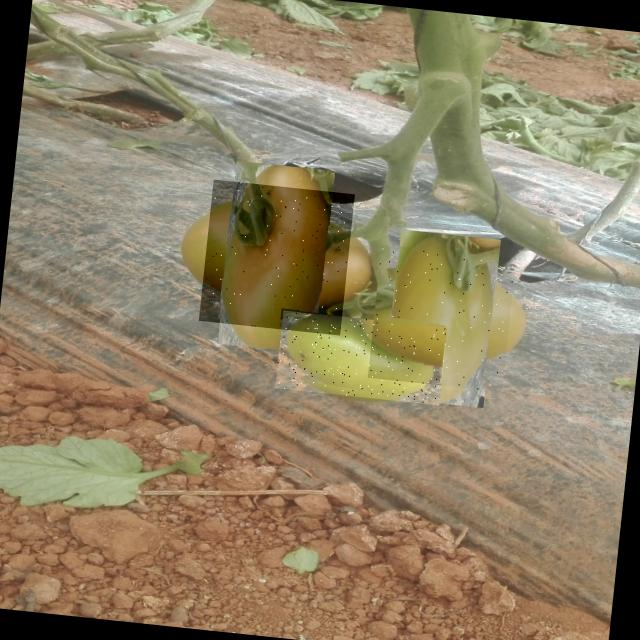Unripe Tomato: (198, 179, 354, 335), (368, 244, 516, 391), (275, 310, 447, 405)
